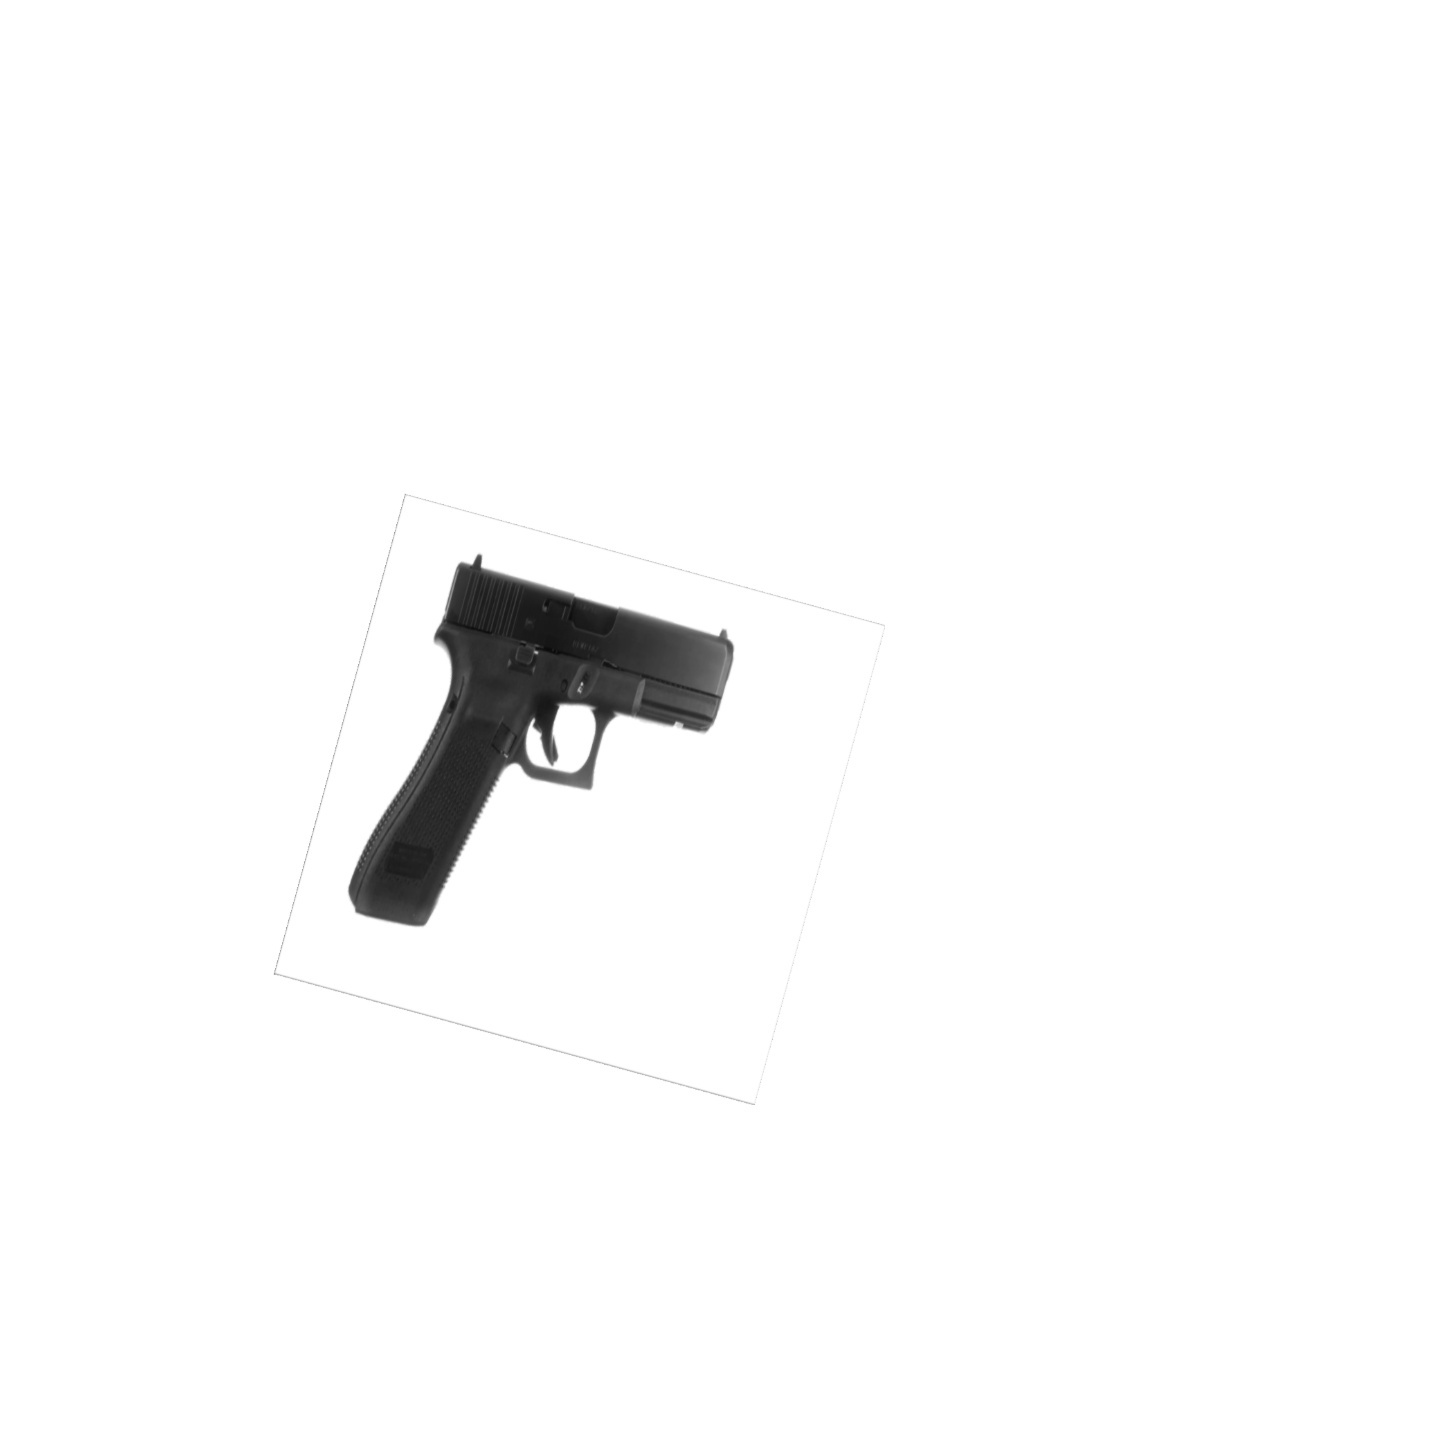gun: (348, 554, 733, 927)
